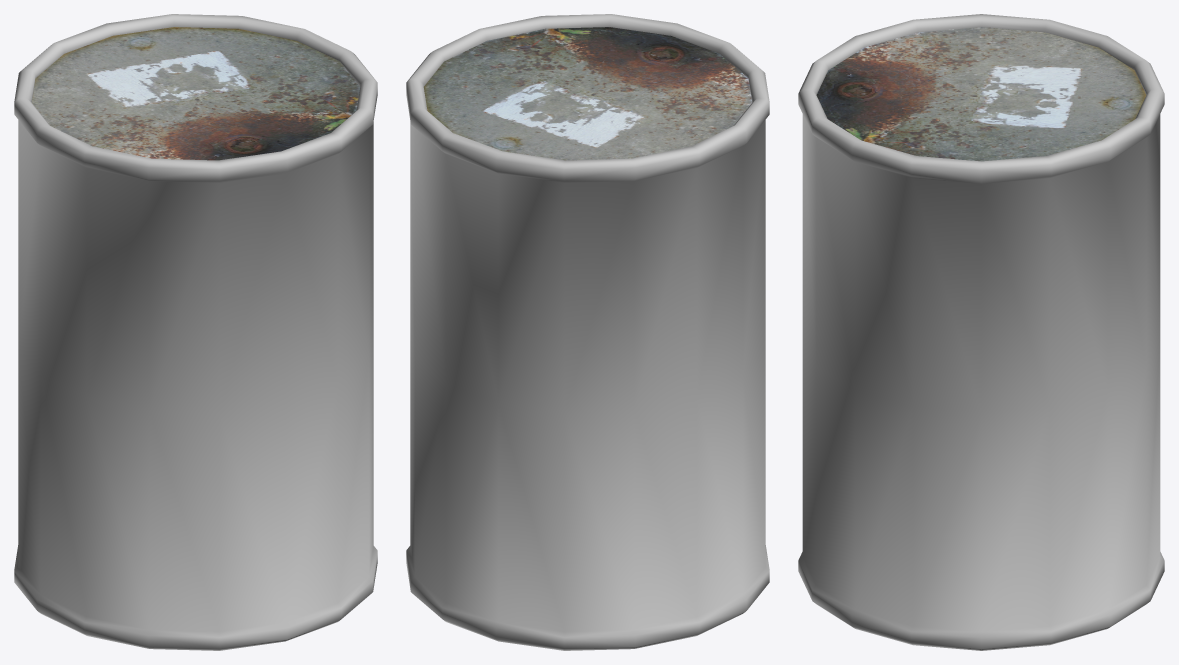
Rendered from barrel3.fbx.
3 renders of one model, left to right at view 1: azimuth 30°, elevation 25°; view 2: azimuth 150°, elevation 25°; view 3: azimuth 270°, elevation 25°, orthographic.
Parts seen in each view (by area): view 1: Mesh Object; view 2: Mesh Object; view 3: Mesh Object.
Part boxes in pixels (box(x1,y1,x2,y2)): Mesh Object: box(14, 14, 377, 650); Mesh Object: box(406, 14, 769, 650); Mesh Object: box(798, 14, 1164, 650).
Bounding box in the file's own units: 1.74 × 2.55 × 1.74.
